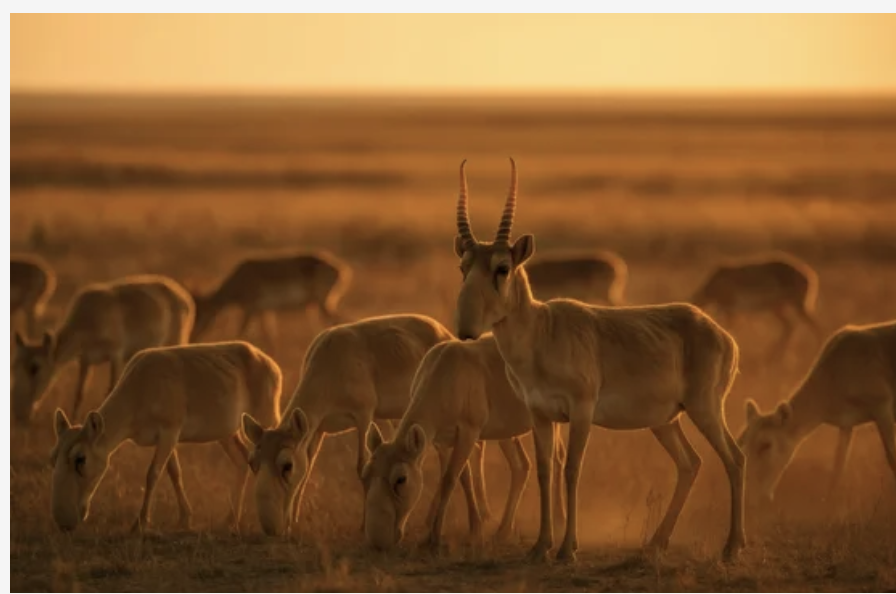saiga: (439, 142, 755, 563)
